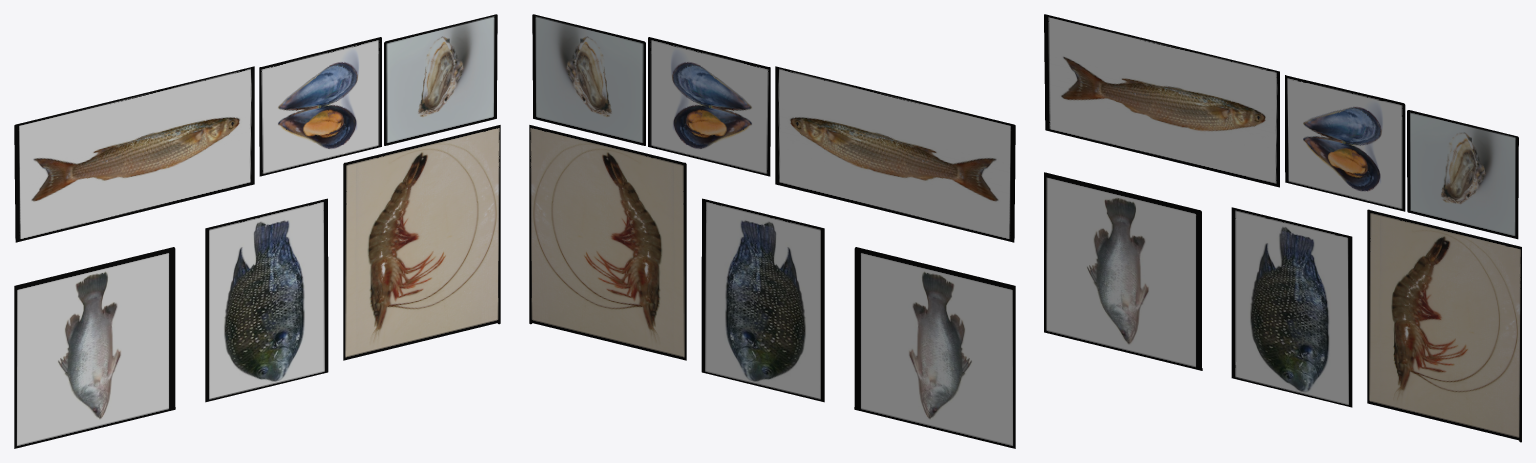
The model's file is Fishes 2.fbx.
3 renders of one model, left to right at view 1: azimuth 30°, elevation 25°; view 2: azimuth 150°, elevation 25°; view 3: azimuth 330°, elevation 25°, orthographic.
Visible parts, largest first — view 1: Prawns, Mullet, Bhetki_fish, Sea_pearl, Mussels, Oysters; view 2: Prawns, Mullet, Bhetki_fish, Sea_pearl, Mussels, Oysters; view 3: Prawns, Mullet, Bhetki_fish, Sea_pearl, Mussels, Oysters.
Part boxes in pixels (x1=…): Prawns: x1=343, y1=125, x2=500, y2=360; Mullet: x1=14, y1=66, x2=254, y2=242; Bhetki_fish: x1=14, y1=247, x2=175, y2=448; Sea_pearl: x1=205, y1=198, x2=328, y2=402; Mussels: x1=259, y1=37, x2=381, y2=176; Oysters: x1=384, y1=14, x2=497, y2=145; Prawns: x1=529, y1=125, x2=686, y2=360; Mullet: x1=775, y1=66, x2=1015, y2=242; Bhetki_fish: x1=854, y1=247, x2=1015, y2=448; Sea_pearl: x1=701, y1=198, x2=824, y2=402; Mussels: x1=648, y1=37, x2=770, y2=176; Oysters: x1=532, y1=14, x2=645, y2=145; Prawns: x1=1367, y1=209, x2=1521, y2=442; Mullet: x1=1044, y1=14, x2=1279, y2=187; Bhetki_fish: x1=1044, y1=172, x2=1202, y2=370; Sea_pearl: x1=1231, y1=207, x2=1352, y2=407; Mussels: x1=1285, y1=75, x2=1405, y2=211; Oysters: x1=1407, y1=110, x2=1518, y2=239.
Bounding box in the file's own units: 1730 × 1102 × 0.
1 material, 1 textured.
